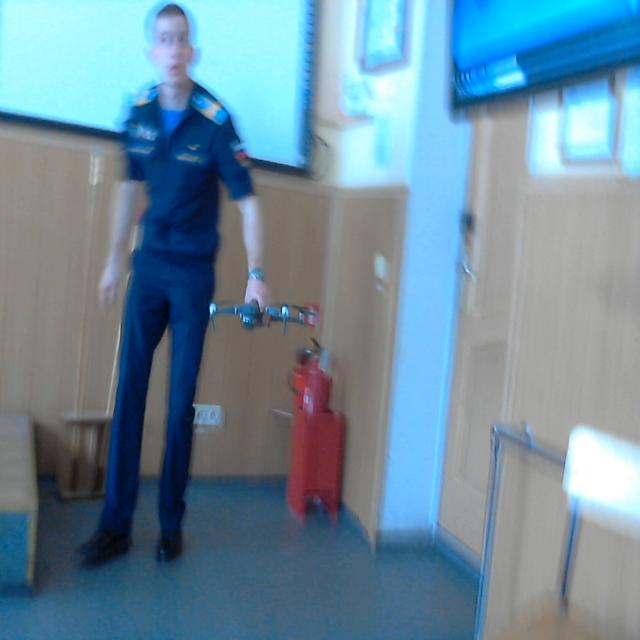drone: (197, 282, 341, 344)
